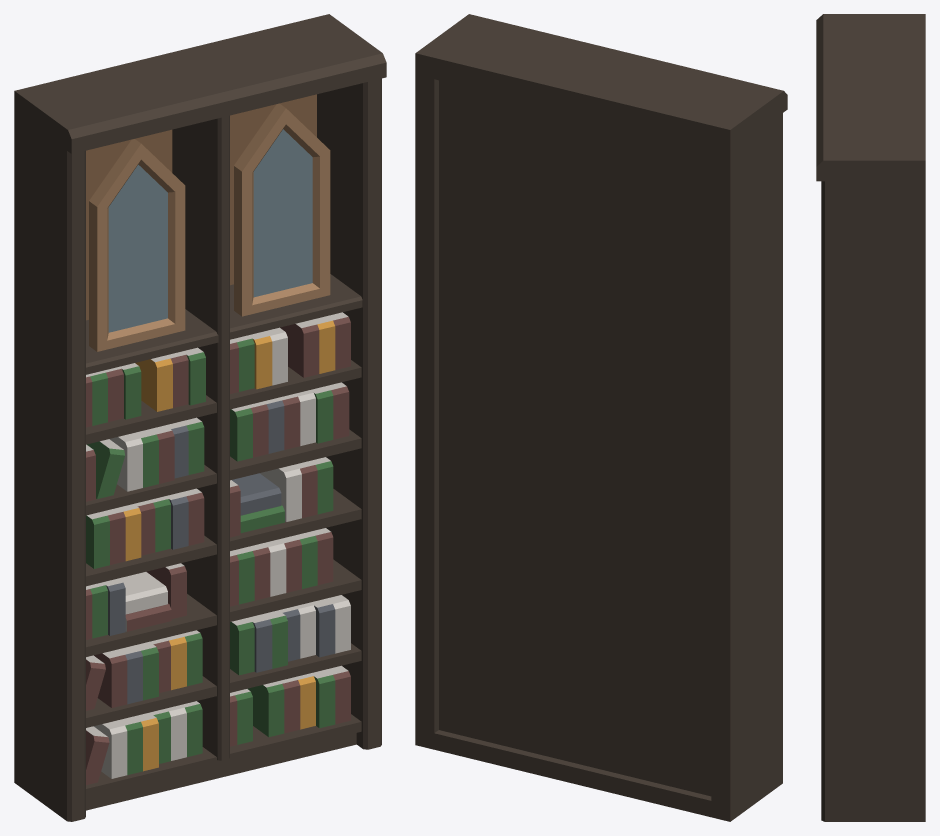
The model's file is stage2_faculty_office_book_wall.glb.
3 renders of one model, left to right at view 1: azimuth 30°, elevation 25°; view 2: azimuth 150°, elevation 25°; view 3: azimuth 270°, elevation 25°, orthographic. The views are drawn at different scales.
Parts seen in each view (by area): view 1: carcass, book-rows, lancet-glass; view 2: carcass; view 3: carcass.
Part boxes in pixels (bbox=[...]): carcass: bbox=[14, 14, 386, 821]; book-rows: bbox=[86, 312, 350, 785]; lancet-glass: bbox=[108, 129, 312, 332]; carcass: bbox=[415, 14, 787, 821]; carcass: bbox=[816, 14, 925, 821].
Size of the model in its own units: 1 by 2.1 by 0.315.
